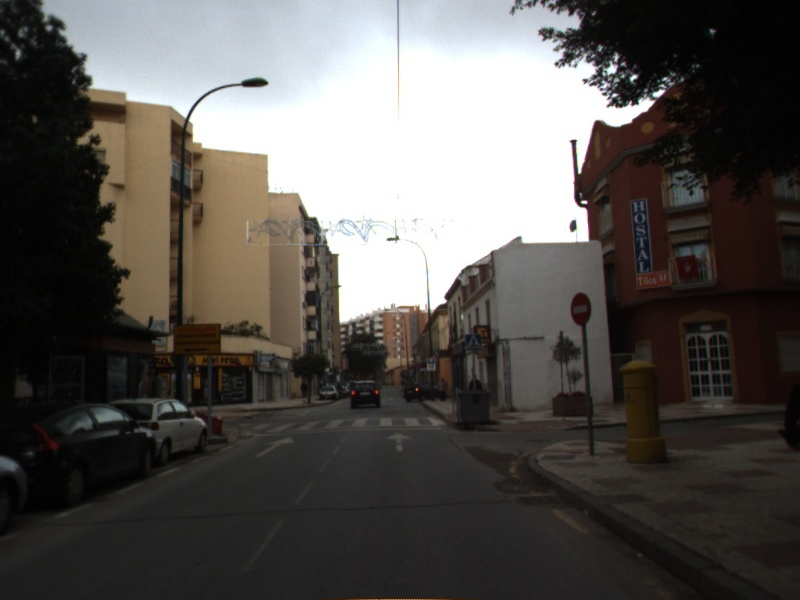STRAIGHT: (252, 434, 296, 459), (384, 430, 414, 454)
